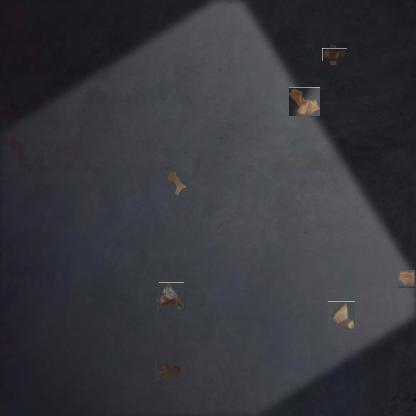dirty: (288, 87, 320, 116), (327, 301, 355, 330), (158, 283, 185, 311), (325, 45, 344, 64), (397, 270, 415, 288)
liquid: (156, 358, 182, 382), (166, 171, 188, 197)
